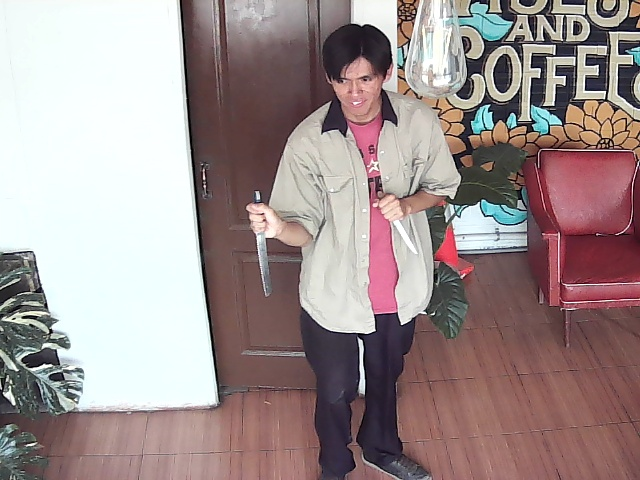cuchillo: (245, 190, 277, 306), (379, 195, 428, 261)
